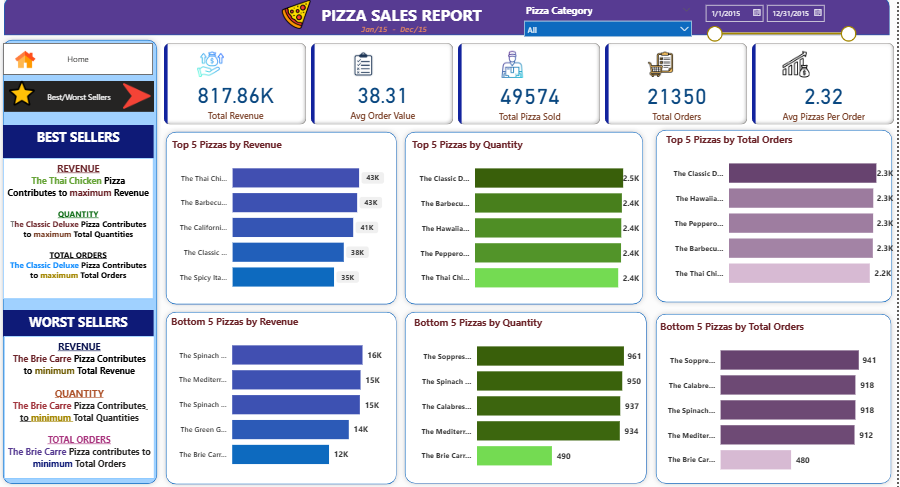

What the dashboard file says about the page in this screenshot:
{"tool":"powerbi","page":{"name":"Best/Worst Sellers","canvas":[1500,820],"ordinal":1},"visuals":[{"type":"shape","box":[1.5,63.8,273.3,756.2],"z":0},{"type":"shape","box":[12.1,0,1476,63.8],"z":1000},{"type":"cardVisual","fields":{"Data":["pizza_sales.Total Revenue","pizza_sales.Avg Order Value","pizza_sales.Total Pizza Sold","pizza_sales.Total Orders","pizza_sales.Avg Pizzas Per Order"]},"box":[272.6,71,1227.4,146.8],"z":2000},{"type":"textbox","box":[526.2,6.2,295,51.2],"z":3000},{"type":"textbox","box":[601.2,40,175,48.8],"z":4000},{"type":"image","box":[456.2,0,83.8,57.5],"z":5000},{"type":"shape","box":[273.3,217.1,400.9,303.7],"z":6000},{"type":"textbox","box":[10.6,212.6,250.6,56.2],"z":7000},{"type":"textbox","box":[10.6,268.8,250.6,235.4],"z":8000},{"type":"textbox","box":[10.6,520.9,250.6,44],"z":9000},{"type":"textbox","box":[12.1,564.9,250.6,238.4],"z":10000},{"type":"slicer","fields":{"Values":["pizza_sales.pizza_category"]},"box":[867.7,6.5,300,64.5],"z":11000},{"type":"slicer","fields":{"Values":["pizza_sales.order_date"]},"box":[1167.7,3.2,272.6,74.2],"z":12000},{"type":"shape","box":[671.2,217.1,413,303.7],"z":13000},{"type":"shape","box":[1090.3,212.6,410,303.7],"z":14000},{"type":"shape","box":[273.3,516.3,400.9,303.7],"z":15000},{"type":"shape","box":[671.2,516.3,419.1,302.2],"z":16000},{"type":"shape","box":[1090.3,519.3,408.5,299.1],"z":17000},{"type":"barChart","title":"Top 5 Pizzas by Revenue","fields":{"Category":["pizza_sales.pizza_name"],"Y":["pizza_sales.Total Revenue"]},"box":[287,235.4,373.6,270.3],"z":18000},{"type":"barChart","title":"Bottom 5 Pizzas by Revenue","fields":{"Category":["pizza_sales.pizza_name"],"Y":["pizza_sales.Total Revenue"]},"box":[284.6,530.8,375,271.2],"z":19000},{"type":"barChart","title":"Top 5 Pizzas by Quantity","fields":{"Category":["pizza_sales.pizza_name"],"Y":["pizza_sales.Total Pizza Sold"]},"box":[686.4,235.4,388.7,271.8],"z":20000},{"type":"barChart","title":"Bottom 5 Pizzas by Quantity","fields":{"Category":["pizza_sales.pizza_name"],"Y":["pizza_sales.Total Pizza Sold"]},"box":[689.4,531.5,388.7,271.8],"z":21000},{"type":"barChart","title":"Top 5 Pizzas by Total Orders","fields":{"Category":["pizza_sales.pizza_name"],"Y":["pizza_sales.Total Orders"]},"box":[1109.7,227.4,388.7,272.6],"z":22000},{"type":"barChart","title":"Bottom 5 Pizzas by Total Orders","fields":{"Category":["pizza_sales.pizza_name"],"Y":["pizza_sales.Total Orders"]},"box":[1099.4,537.6,370.5,271.8],"z":23000},{"type":"pageNavigator","box":[11.3,140.3,250,51.6],"z":24000},{"type":"pageNavigator","box":[10.6,77.4,250.6,53.1],"z":25000},{"type":"image","box":[205,135.1,56.2,59.2],"z":25001},{"type":"image","box":[24.3,80.5,44,47.1],"z":25002},{"type":"image","box":[15.2,130.6,53.1,60.7],"z":25003}]}

Visuals, with their boxes in screenshot pixels (x1, y1, x2, y2), scaled from the page's 1500x820 canvas onto the 900x487 screenshot:
shape: x1=1 y1=38 x2=165 y2=486
shape: x1=7 y1=0 x2=893 y2=38
cardVisual - pizza_sales.Total Revenue x pizza_sales.Avg Order Value: x1=164 y1=42 x2=899 y2=129
textbox: x1=316 y1=4 x2=493 y2=34
textbox: x1=361 y1=24 x2=466 y2=53
image: x1=274 y1=0 x2=324 y2=34
shape: x1=164 y1=129 x2=405 y2=309
textbox: x1=6 y1=126 x2=157 y2=160
textbox: x1=6 y1=160 x2=157 y2=299
textbox: x1=6 y1=309 x2=157 y2=335
textbox: x1=7 y1=335 x2=158 y2=477
slicer - pizza_sales.pizza_category: x1=521 y1=4 x2=701 y2=42
slicer - pizza_sales.order_date: x1=701 y1=2 x2=864 y2=46
shape: x1=403 y1=129 x2=651 y2=309
shape: x1=654 y1=126 x2=899 y2=307
shape: x1=164 y1=307 x2=405 y2=486
shape: x1=403 y1=307 x2=654 y2=486
shape: x1=654 y1=308 x2=899 y2=486
"Top 5 Pizzas by Revenue" barChart: x1=172 y1=140 x2=396 y2=300
"Bottom 5 Pizzas by Revenue" barChart: x1=171 y1=315 x2=396 y2=476
"Top 5 Pizzas by Quantity" barChart: x1=412 y1=140 x2=645 y2=301
"Bottom 5 Pizzas by Quantity" barChart: x1=414 y1=316 x2=647 y2=477
"Top 5 Pizzas by Total Orders" barChart: x1=666 y1=135 x2=899 y2=297
"Bottom 5 Pizzas by Total Orders" barChart: x1=660 y1=319 x2=882 y2=481
pageNavigator: x1=7 y1=83 x2=157 y2=114
pageNavigator: x1=6 y1=46 x2=157 y2=78
image: x1=123 y1=80 x2=157 y2=115
image: x1=15 y1=48 x2=41 y2=76
image: x1=9 y1=78 x2=41 y2=114
